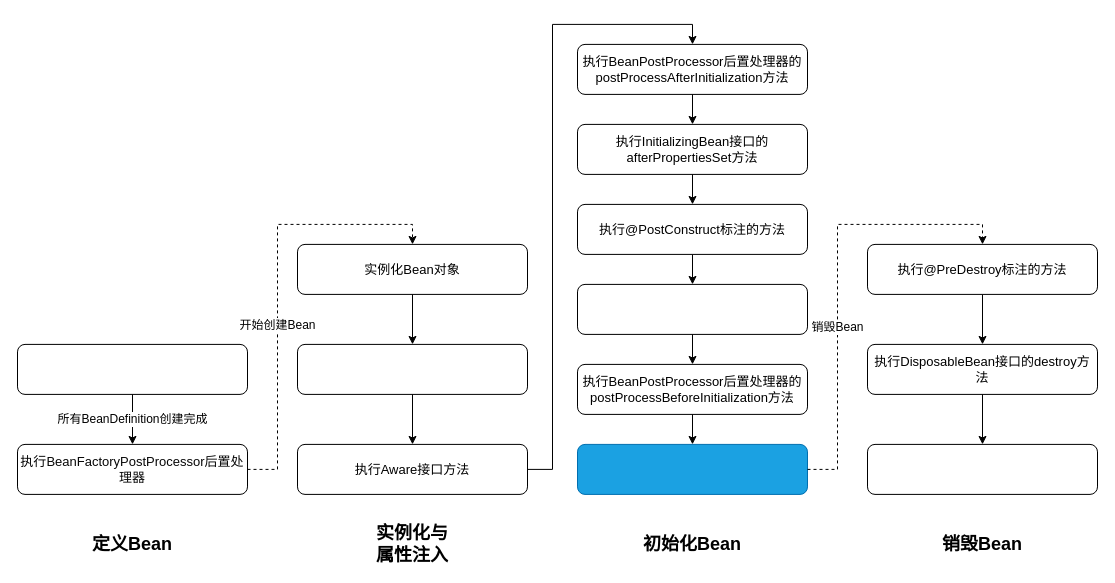
The diagram is 1115 pixels wide and 583 high, and some of its shapes have lost their labels. The shapes that lost their labels are listed below. From the top down, each one's box as (x1, y1, x2, y2) in pixels, then its label:
(576, 283, 808, 334): 执行指定的init-method方法
(16, 343, 248, 394): 创建 BeanDefinition定义
(296, 343, 528, 394): Bean属性注入
(576, 443, 808, 494): 使用Bean
(866, 443, 1098, 494): 执行指定的destroy-method方法
